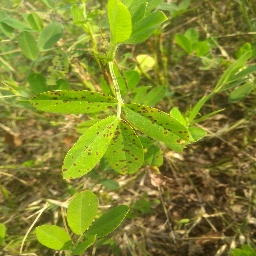GroundNut_Leaf: (121, 99, 190, 147), (25, 88, 120, 118), (59, 122, 108, 180), (110, 121, 146, 182), (66, 187, 107, 230), (98, 202, 133, 241), (104, 1, 133, 44), (37, 20, 66, 54), (31, 224, 66, 250), (14, 32, 36, 64)
